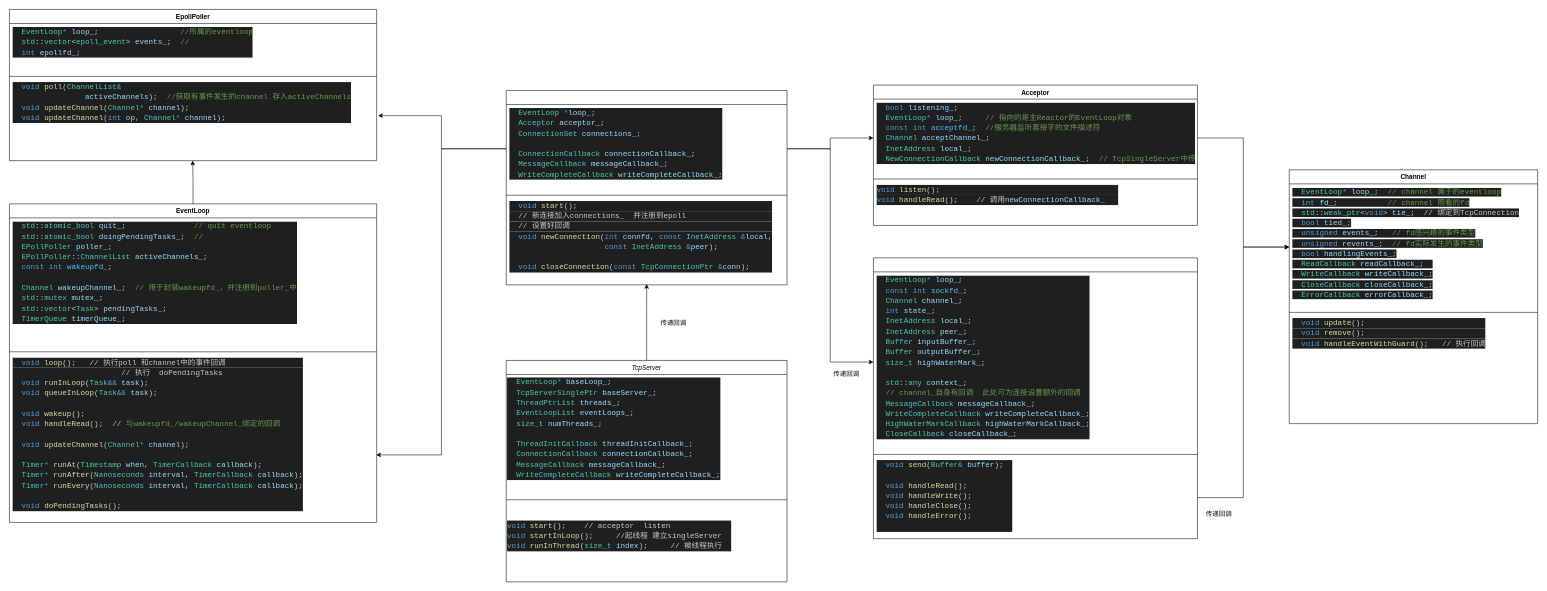
Image size: 1547x591. Some labels were removed from this diagram. Here are the shapes that lost their labels. From the top down, the box of each, then its label:
(506, 90, 787, 285): TcpSingleServer
(873, 257, 1197, 539): TcpConnection
